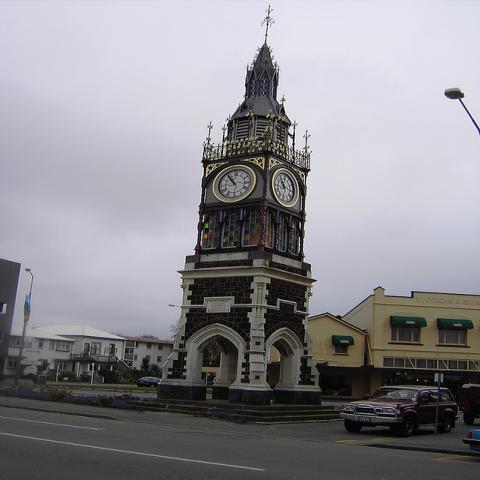car: (340, 384, 460, 437), (461, 383, 479, 425), (135, 376, 161, 387)
